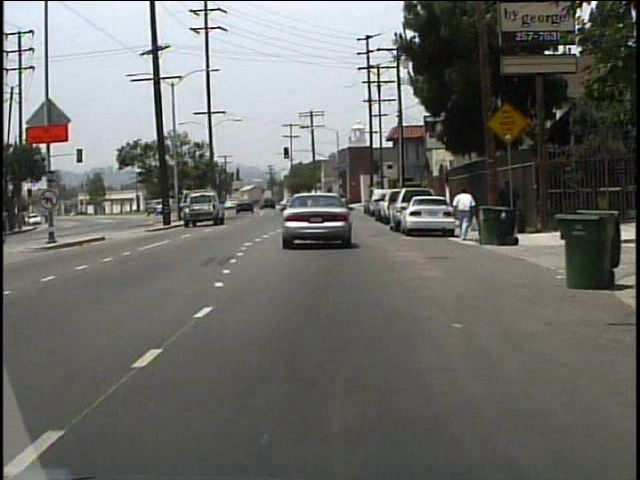person: (450, 185, 476, 242)
